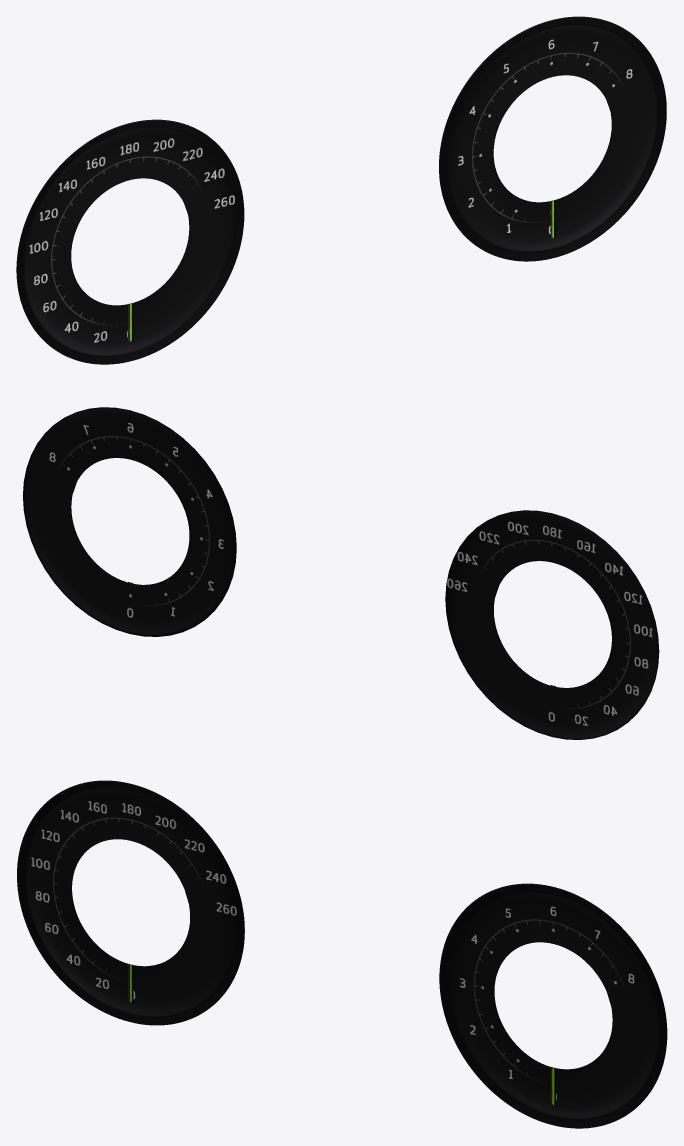
The model's file is Gauges.fbx.
3 renders of one model, top to bottom at view 1: azimuth 30°, elevation 25°; view 2: azimuth 150°, elevation 25°; view 3: azimuth 330°, elevation 25°, orthographic.
Parts seen in each view (by area): view 1: Model:RPMGauge:RPMTable, Model:SpeedGauge:SpeedTable; view 2: Model:RPMGauge:RPMTable, Model:SpeedGauge:SpeedTable; view 3: Model:RPMGauge:RPMTable, Model:SpeedGauge:SpeedTable.
Boxes of the visible parts, x1,y1,x2,y2 form: Model:RPMGauge:RPMTable: (439,16,666,261); Model:SpeedGauge:SpeedTable: (16,119,244,364); Model:RPMGauge:RPMTable: (23,407,236,636); Model:SpeedGauge:SpeedTable: (445,510,659,739); Model:RPMGauge:RPMTable: (439,883,667,1128); Model:SpeedGauge:SpeedTable: (17,780,244,1025).
Bounding box in the file's own units: 61.78 × 21.99 × 0.15.
4 materials, 4 textured.
